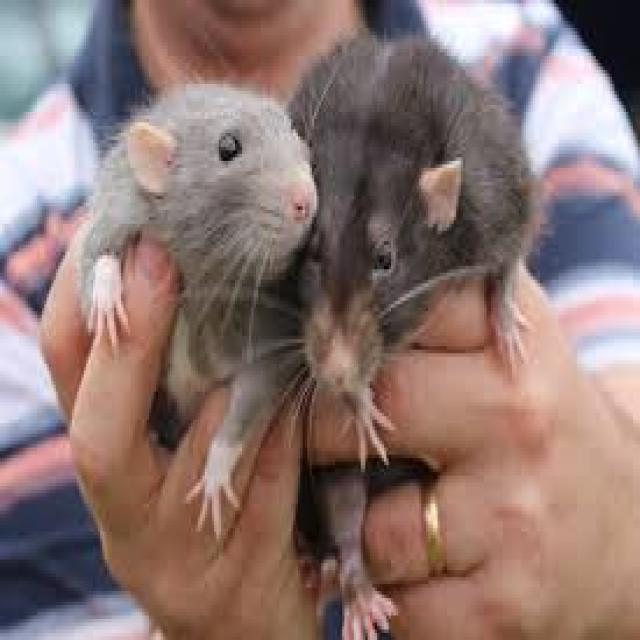Rat: (59, 0, 563, 389)
